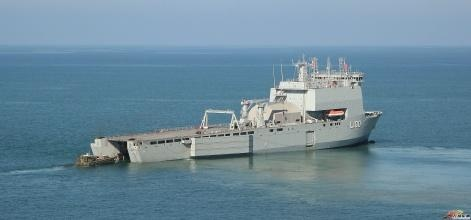warship: (68, 48, 380, 172)
